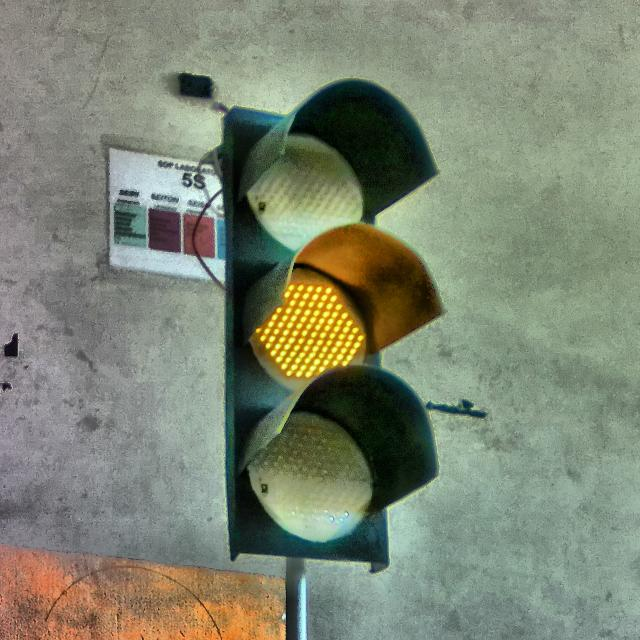yellow: (224, 85, 434, 566)
